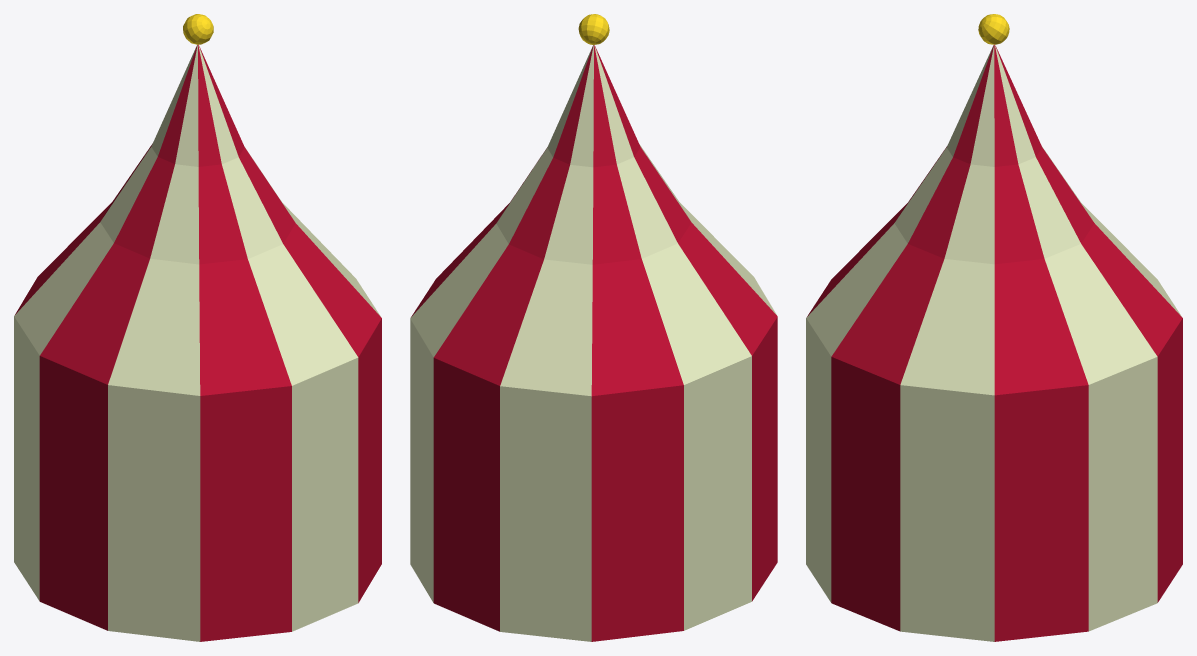
File: CarpaRoja.fbx
3 views of the same model, side by side, from view 1: azimuth 30°, elevation 25°; view 2: azimuth 150°, elevation 25°; view 3: azimuth 270°, elevation 25° (orthographic).
Parts seen in each view (by area): view 1: model 3 copy; view 2: model 3 copy; view 3: model 3 copy.
Part boxes in pixels (x1,y1,x2,y2): model 3 copy: [14, 14, 381, 641]; model 3 copy: [410, 14, 777, 641]; model 3 copy: [806, 14, 1182, 641].
Size of the model in its own units: 35 by 57.89 by 36.
